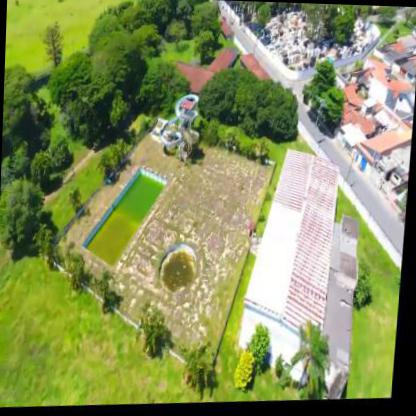agua: (102, 188, 161, 264), (162, 242, 205, 300)
